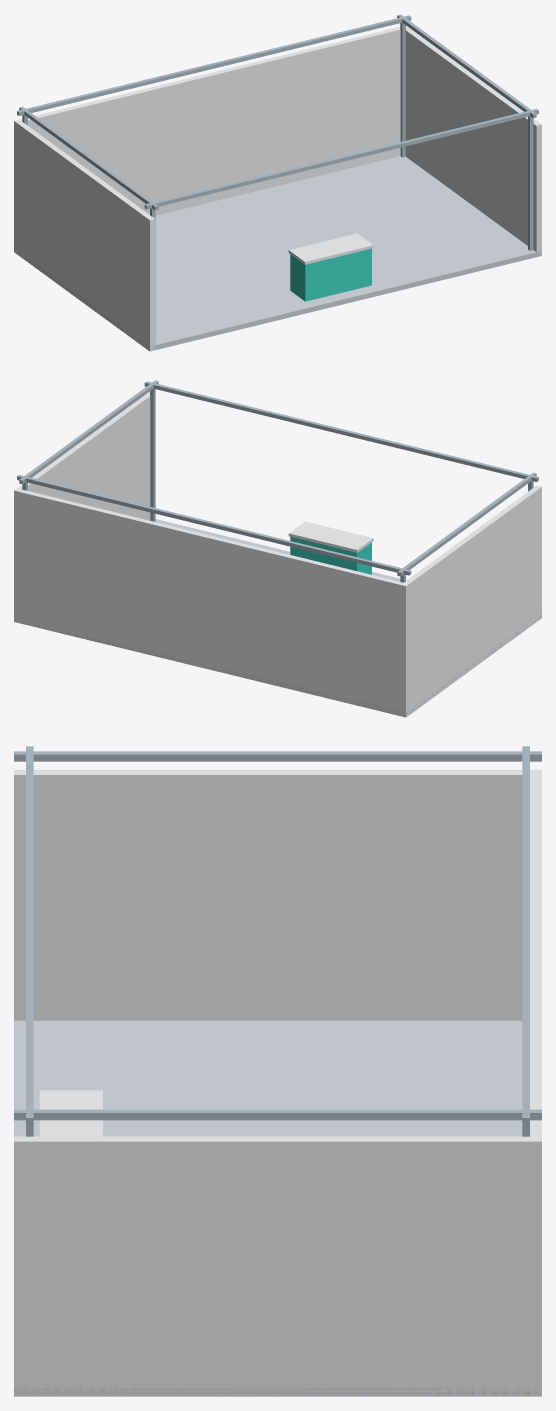
The picture shows the model from 3 angles, top to bottom: view 1: azimuth 30°, elevation 25°; view 2: azimuth 150°, elevation 25°; view 3: azimuth 270°, elevation 25°; orthographic projection. The views are drawn at different scales.
Visible parts, largest first — view 1: Exhibition Booth Concept; view 2: Exhibition Booth Concept; view 3: Exhibition Booth Concept.
Boxes of the visible parts, box(x1,y1,x2,y2) form: Exhibition Booth Concept: box(14, 14, 541, 351); Exhibition Booth Concept: box(14, 380, 541, 717); Exhibition Booth Concept: box(14, 746, 541, 1396).
Bounding box in the file's own units: 10 × 3.49 × 6.
